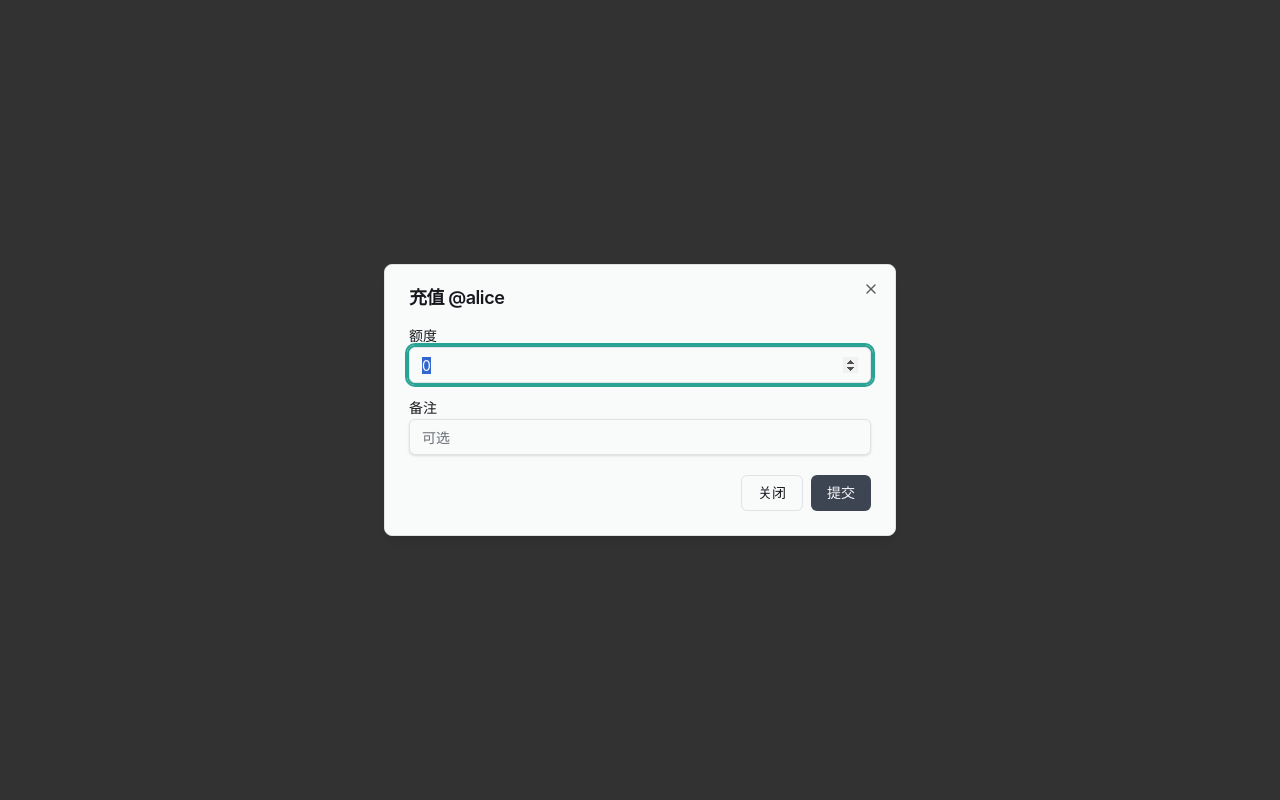
Test: UserDialogs localized validation › shows a Chinese integer message in the top-up dialog
This screenshot has width=1280, height=800.
Replace the text in the number field with "9007199254740992" at (640, 365), box [409, 347, 871, 383]
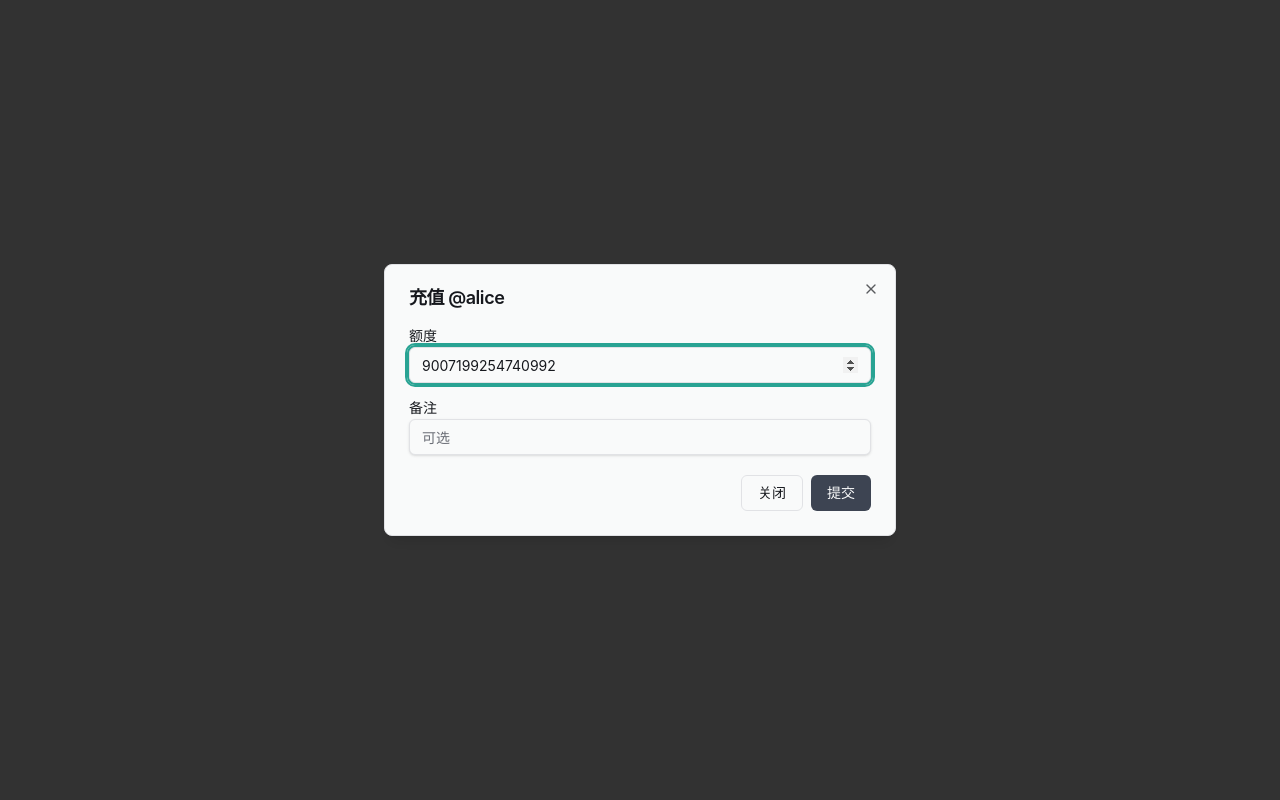
Click the button "提交" at (841, 493), box [811, 475, 871, 511]
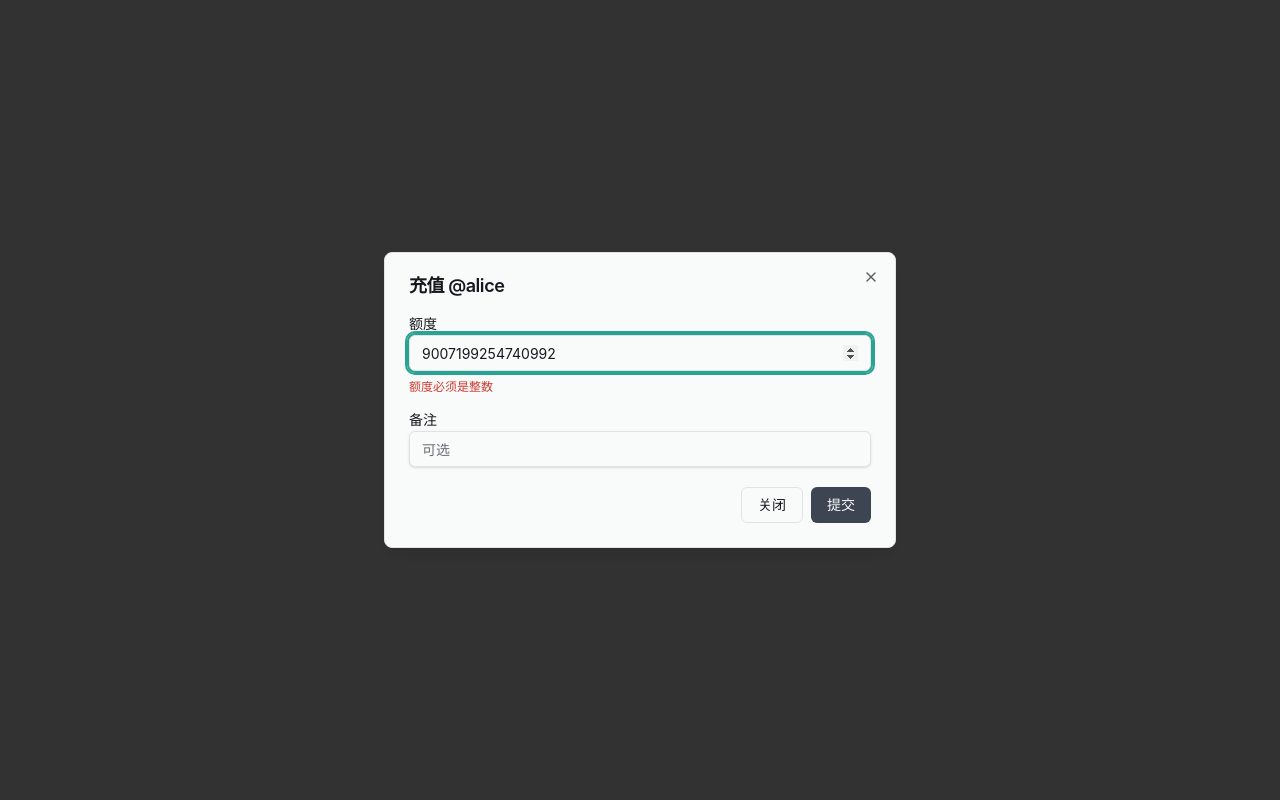
Check: the text "额度必须是整数" is shown, box [409, 379, 493, 394]
